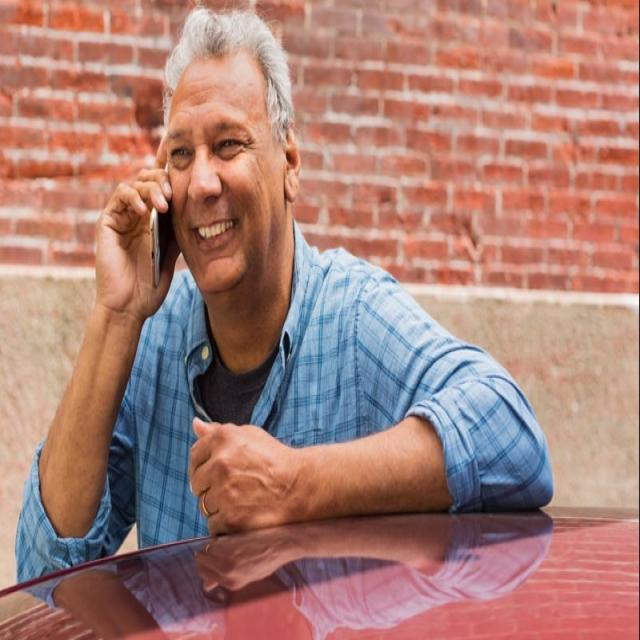phone: (95, 103, 202, 314)
